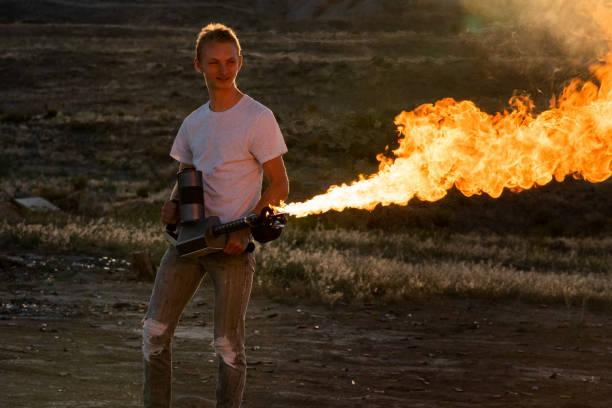Fire: (280, 60, 612, 235)
